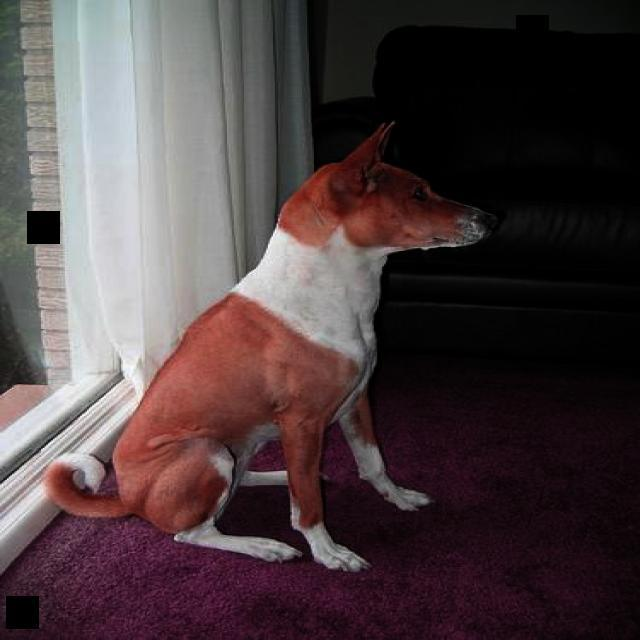adult_dog: (38, 121, 503, 574)
